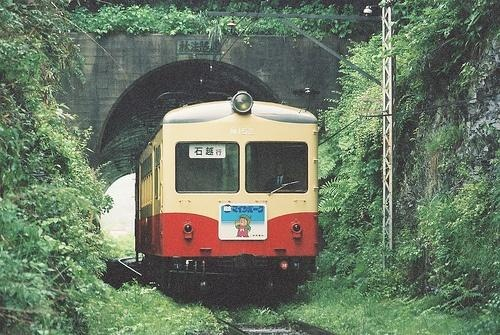train: (135, 93, 321, 298)
